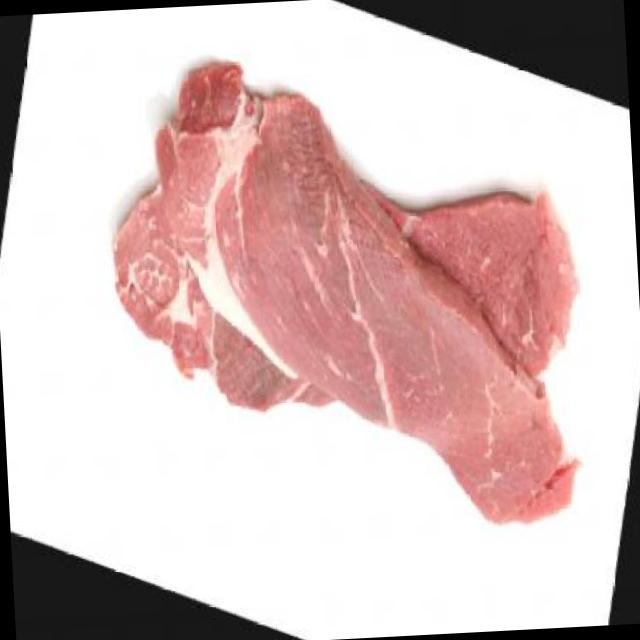beef: (95, 39, 593, 546)
